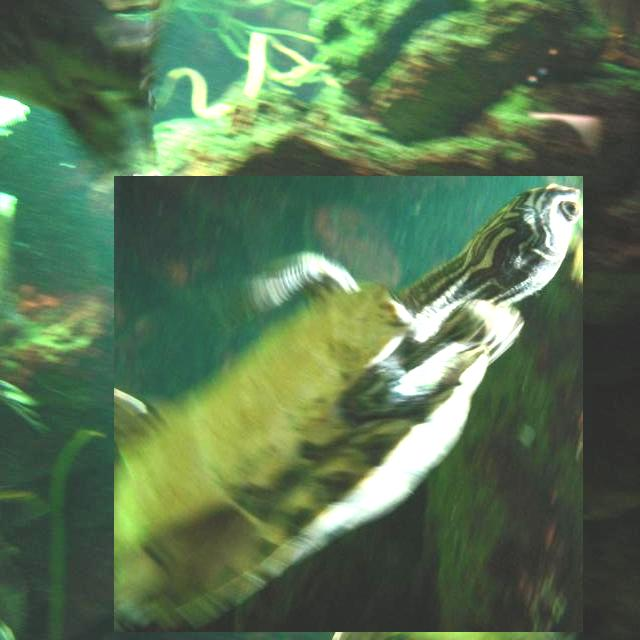Sea turtle: (116, 173, 580, 636)
